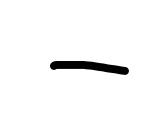minus: (50, 59, 129, 79)
